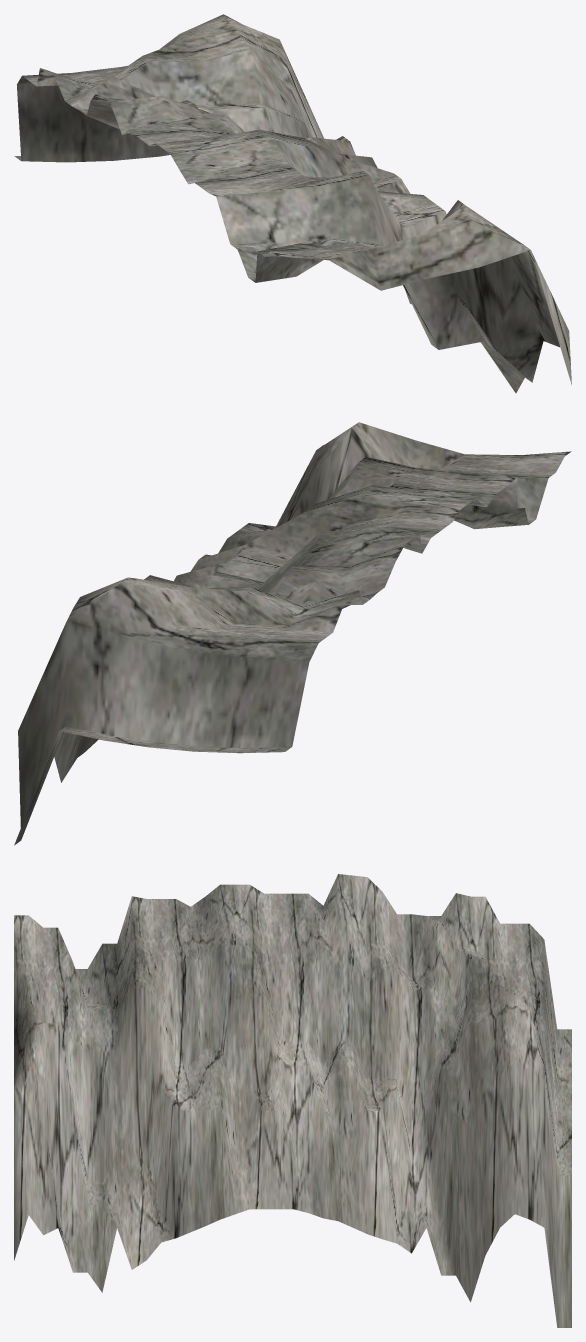
File: DWARF_PALACE_MAINHALL_CELLING02A01.fbx
3 renders of one model, top to bottom at view 1: azimuth 30°, elevation 25°; view 2: azimuth 150°, elevation 25°; view 3: azimuth 270°, elevation 25°, orthographic. The views are drawn at different scales.
Parts seen in each view (by area): view 1: DWARF_PALACE_MAINHALL_CELLING02A01; view 2: DWARF_PALACE_MAINHALL_CELLING02A01; view 3: DWARF_PALACE_MAINHALL_CELLING02A01.
Boxes of the visible parts, x1=… form: DWARF_PALACE_MAINHALL_CELLING02A01: x1=14, y1=14, x2=571, y2=393; DWARF_PALACE_MAINHALL_CELLING02A01: x1=14, y1=422, x2=571, y2=845; DWARF_PALACE_MAINHALL_CELLING02A01: x1=14, y1=874, x2=571, y2=1327.
Bounding box in the file's own units: 315690 × 300972 × 493365.
Materials: 1 (1 with a texture image).
